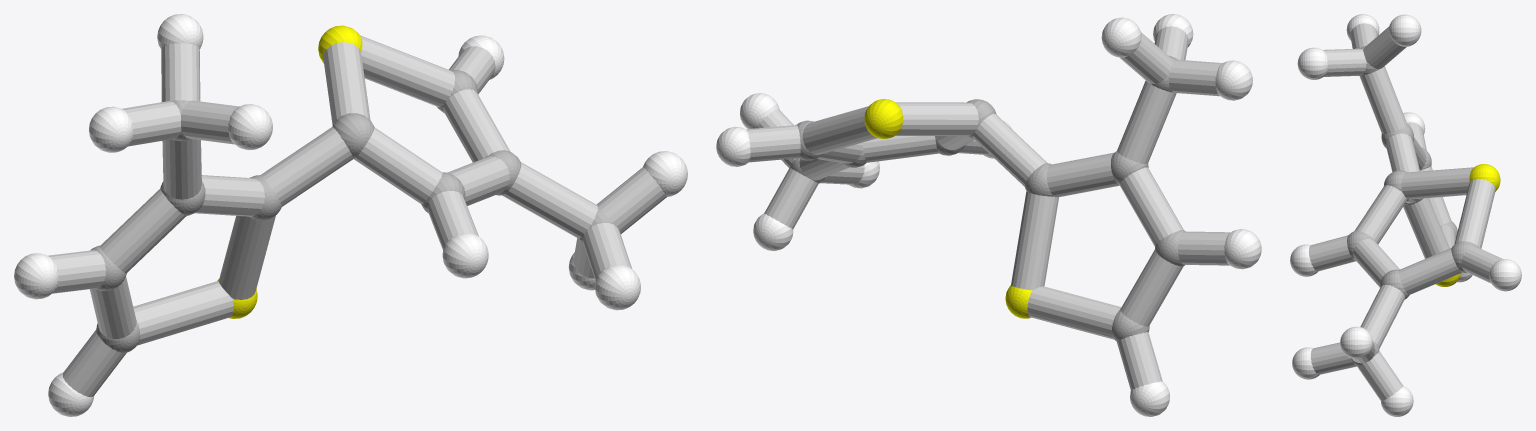
File: Methylthiophene_Phi_50_Theta_280_Methylthiophene.glb
3 renders of one model, left to right at view 1: azimuth 30°, elevation 25°; view 2: azimuth 150°, elevation 25°; view 3: azimuth 270°, elevation 25°, orthographic. The views are drawn at different scales.
Visible parts, largest first — view 1: grp7965, grp3621, grp1, grp7241; view 2: grp7965, grp3621, grp1, grp7241; view 3: grp7965, grp3621, grp1, grp7241.
Part boxes in pixels (x1,y1,x2,y2): grp7965: (48,35,666,397); grp3621: (14,14,687,416); grp1: (90,70,612,353); grp7241: (217,25,362,318); grp7965: (746,26,1230,390); grp3621: (716,14,1261,416); grp1: (790,56,1185,341); grp7241: (864,99,1032,318); grp7965: (1308,23,1502,400); grp3621: (1290,14,1521,416); grp1: (1347,46,1478,366); grp7241: (1435,164,1500,286).
Bounding box in the file's own units: 9.44 × 5.85 × 4.25.
